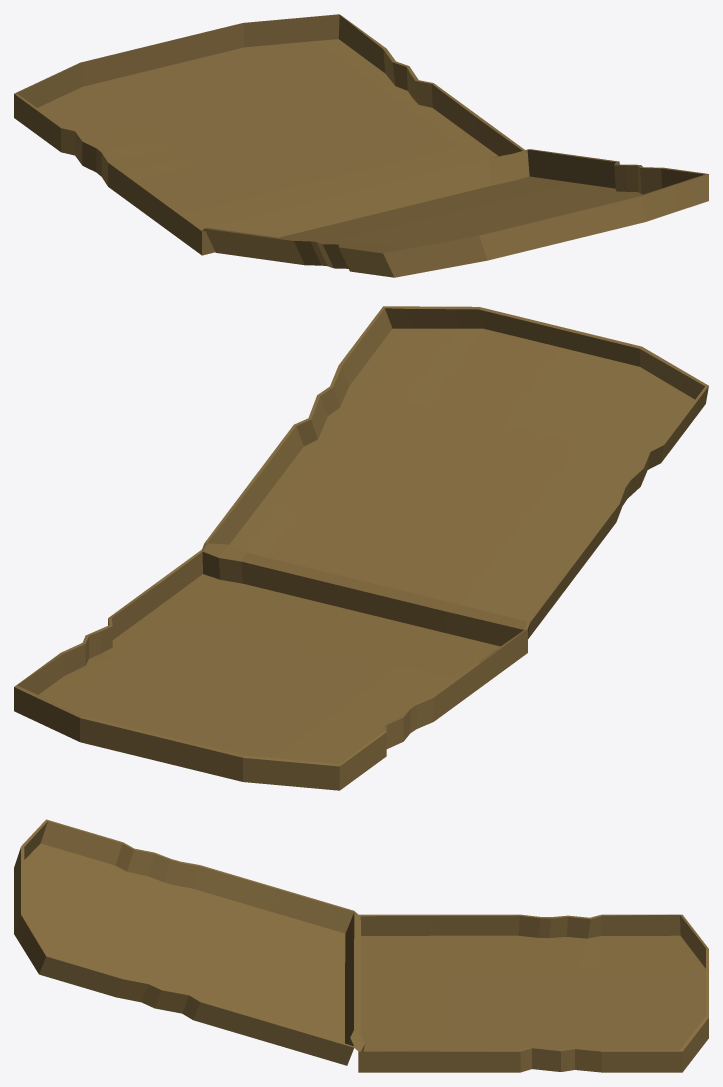
File: CajaPizza_02.fbx
The picture shows the model from 3 angles, top to bottom: view 1: azimuth 30°, elevation 25°; view 2: azimuth 150°, elevation 25°; view 3: azimuth 270°, elevation 25°; orthographic projection. The views are drawn at different scales.
Visible parts, largest first — view 1: CajaPizza_02; view 2: CajaPizza_02; view 3: CajaPizza_02.
Part boxes in pixels (x1=…): CajaPizza_02: x1=14, y1=14, x2=708, y2=277; CajaPizza_02: x1=14, y1=306, x2=708, y2=790; CajaPizza_02: x1=14, y1=819, x2=708, y2=1072.
Size of the model in its own units: 64.09 by 26.94 by 137.
